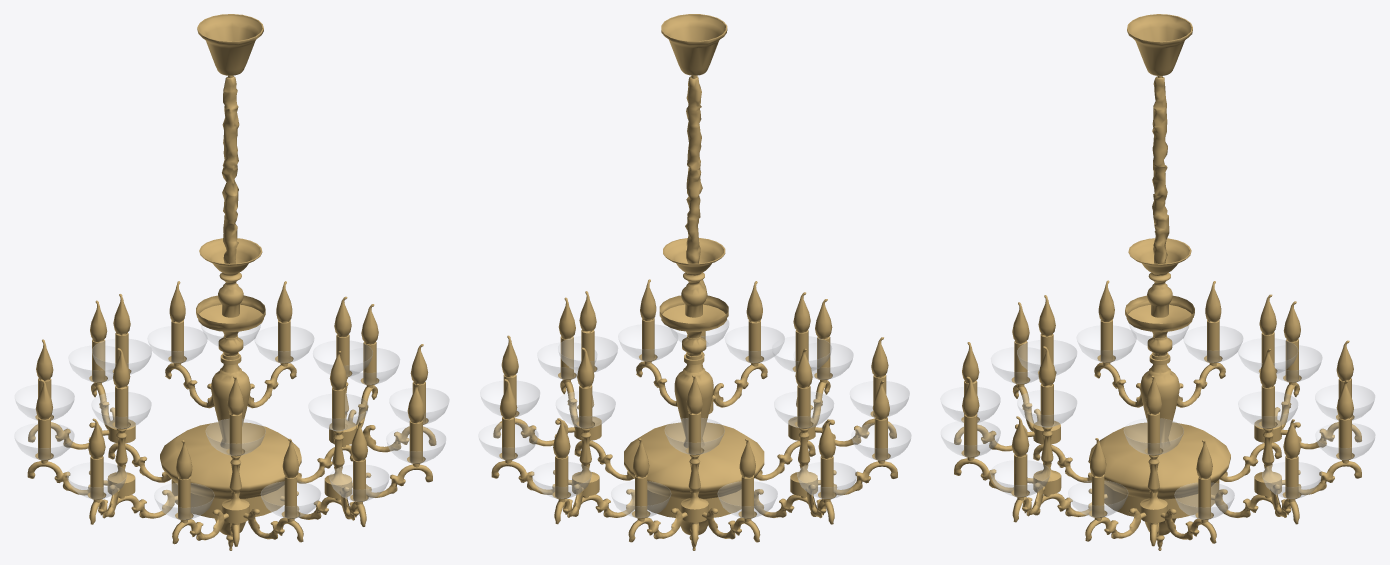
The model's file is chandelier_03.glb.
3 views of the same model, side by side, from view 1: azimuth 30°, elevation 25°; view 2: azimuth 150°, elevation 25°; view 3: azimuth 270°, elevation 25° (orthographic).
Visible parts, largest first — view 1: Chandelier_03; view 2: Chandelier_03; view 3: Chandelier_03.
Part boxes in pixels (x1,y1,x2,y2): Chandelier_03: [14, 14, 449, 550]; Chandelier_03: [478, 14, 911, 550]; Chandelier_03: [940, 14, 1375, 550].
Bounding box in the file's own units: 0.7804 × 1.04 × 0.7855.
